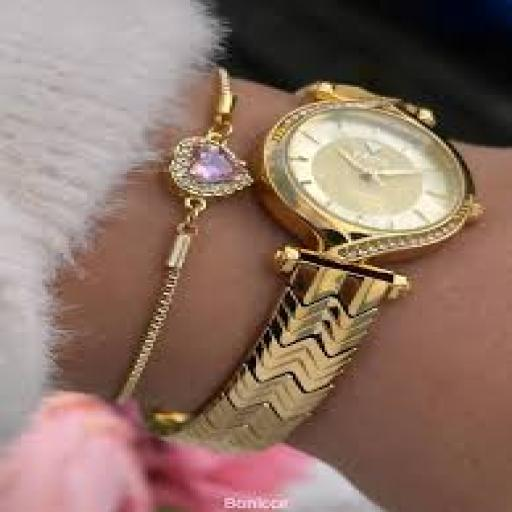KolSaati: (204, 35, 480, 481)
